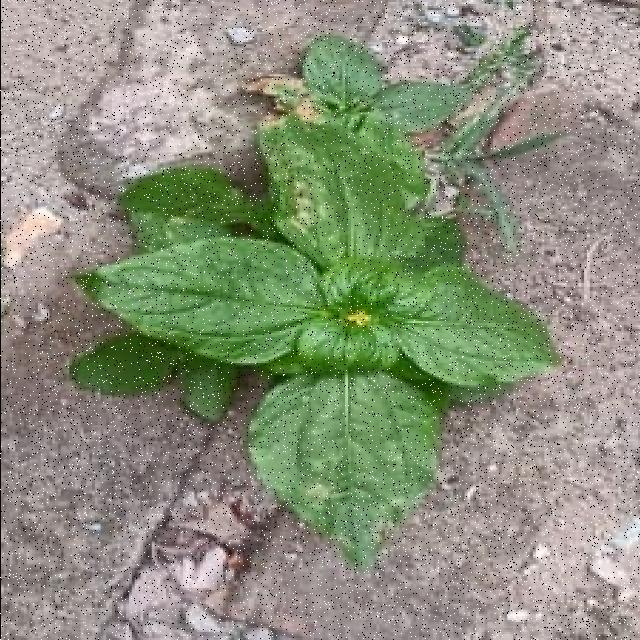weed: (70, 32, 558, 563)
